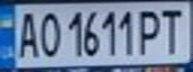1: (115, 7, 139, 56), (63, 7, 84, 57), (100, 7, 121, 56)
6: (81, 7, 103, 57)
A: (12, 8, 42, 60)
O: (36, 8, 63, 59)
P: (136, 6, 163, 55)
T: (157, 4, 187, 55)
